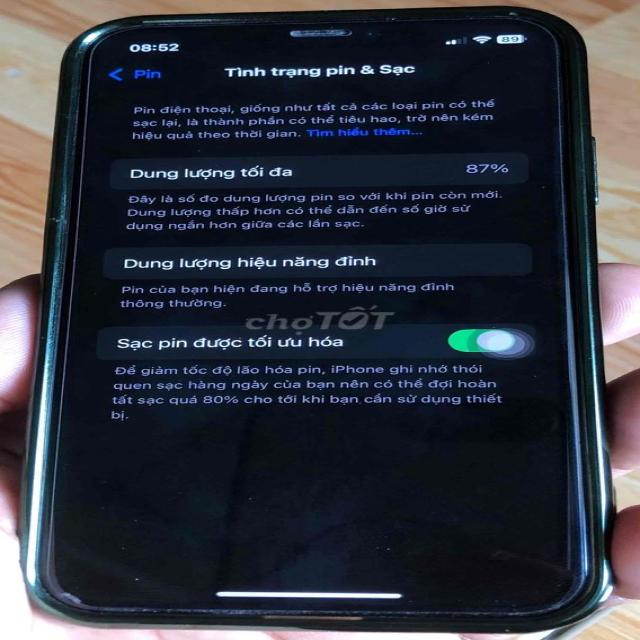gen_x_xs: (23, 7, 611, 632)
scratch: (52, 588, 87, 612), (482, 8, 538, 22)
